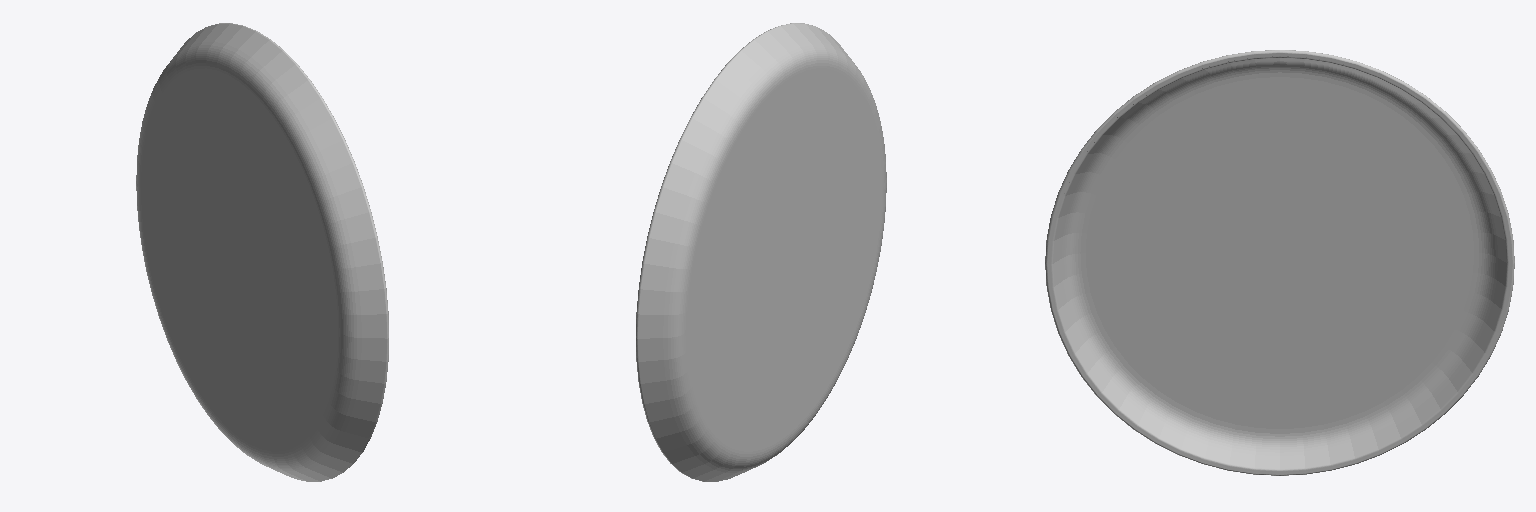
Rendered from Plate 3.obj.
3 renders of one model, left to right at view 1: azimuth 30°, elevation 25°; view 2: azimuth 150°, elevation 25°; view 3: azimuth 270°, elevation 25°, orthographic.
Parts seen in each view (by area): view 1: Black_3; view 2: Black_3; view 3: Plate_3_alpha, Black_3.
Boxes of the visible parts, <box> form: Black_3: <box>136,23,388,481</box>; Black_3: <box>636,23,886,481</box>; Plate_3_alpha: <box>1051,56,1508,471</box>; Black_3: <box>1045,50,1514,475</box>.
Bounding box in the file's own units: 3.53 × 42.44 × 42.43.